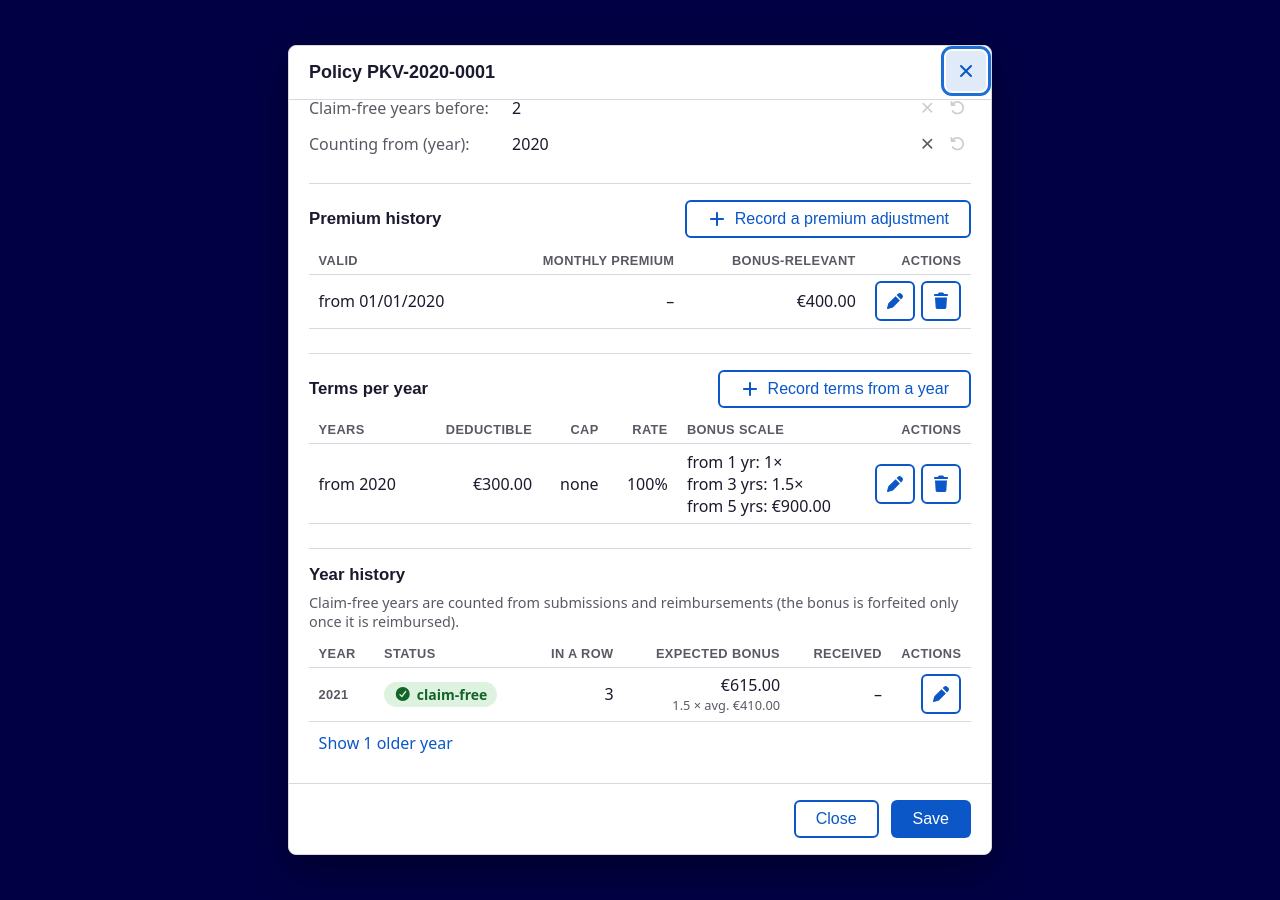
Test: ContractDetailDialog › speaks English: headings, scale, forecast and the delete question
(page scrolled)
expect the headings read "Premium history", "Terms per year", "Year history", in this order: met, box [309, 209, 441, 229]; [309, 379, 428, 399]; [309, 565, 405, 585]
Click the button "Show 1 older year". click: (386, 743)
box: [319, 730, 453, 757]
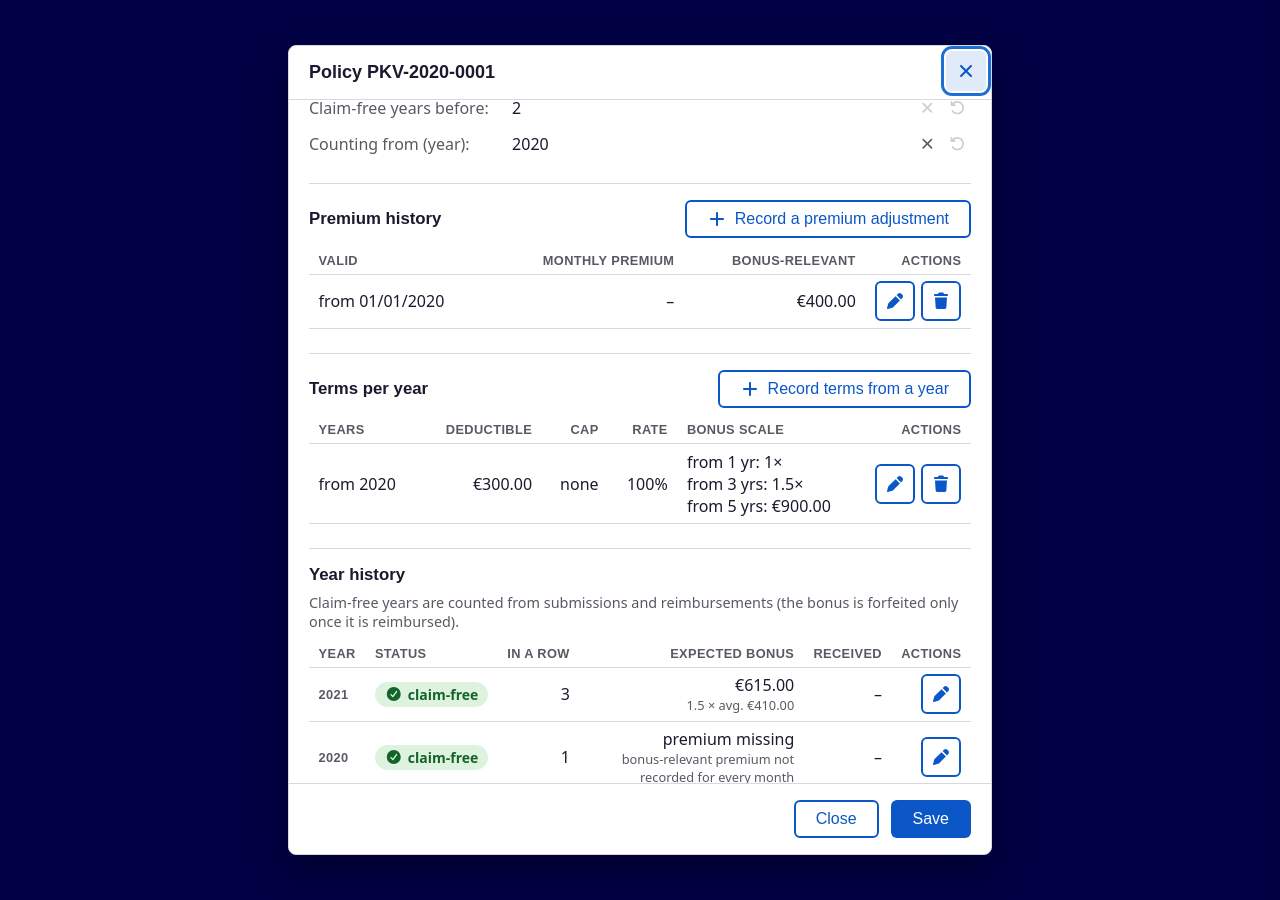
expect the 7th row shows "premium missing": met, box [663, 728, 794, 750]
Click the button named "Delete the terms from 2020". click: (941, 484)
box: [921, 464, 961, 504]
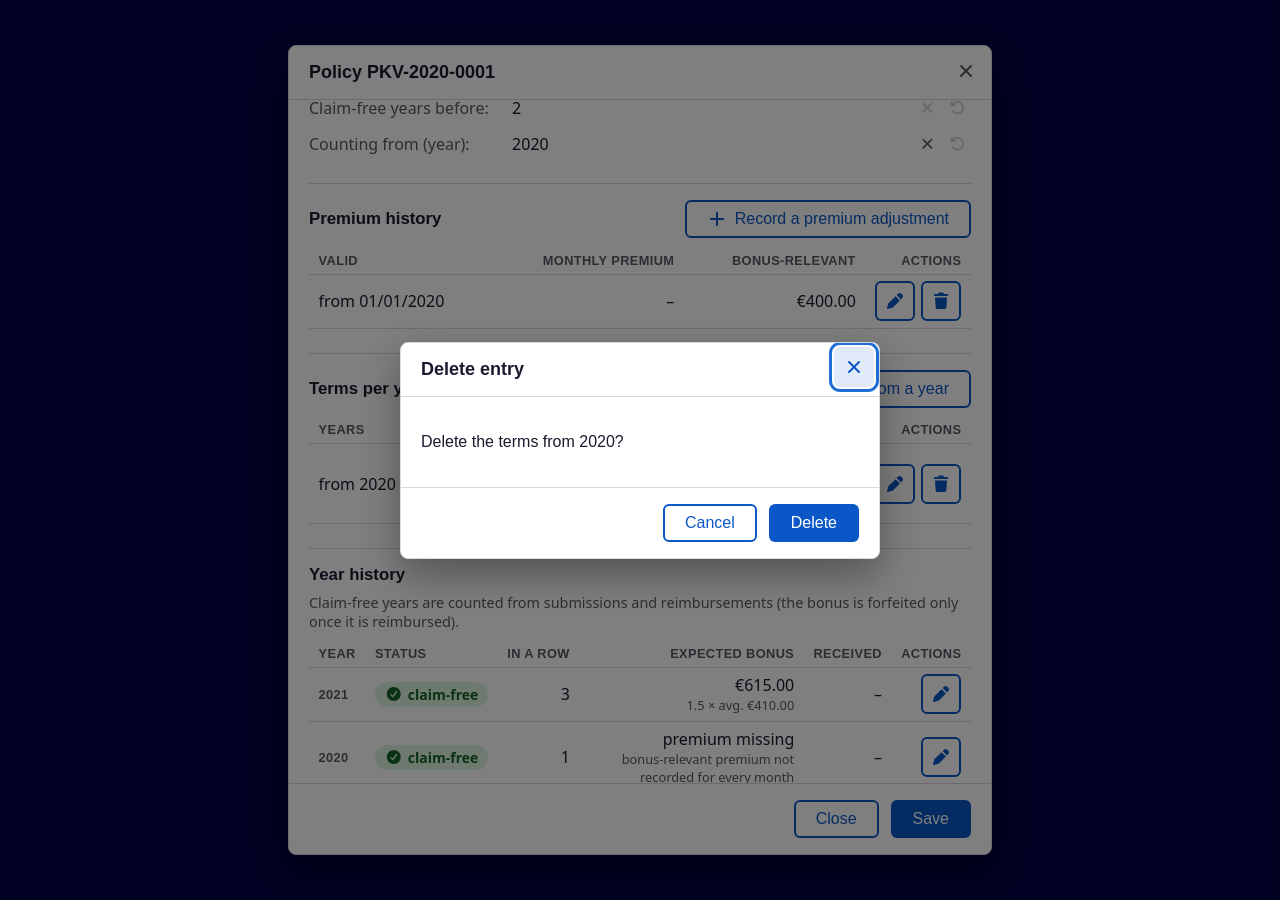
expect the text "Delete the terms from 2020?" is shown: met, box [421, 432, 624, 450]
